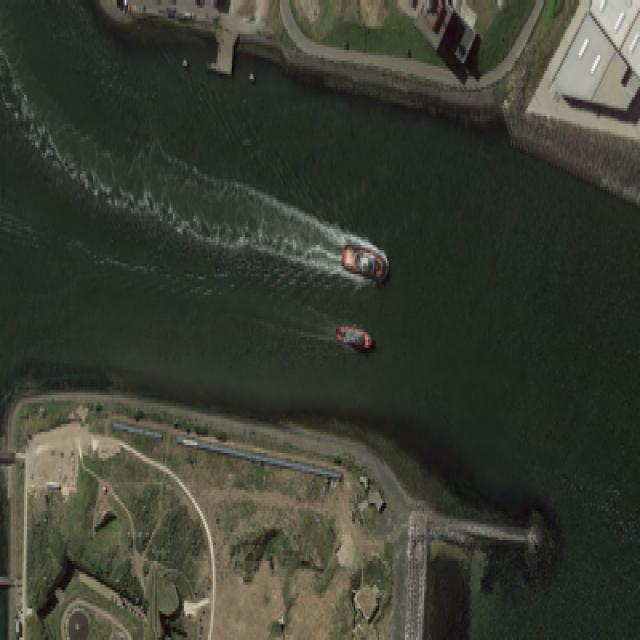boat: (338, 237, 387, 282), (333, 322, 373, 351)
